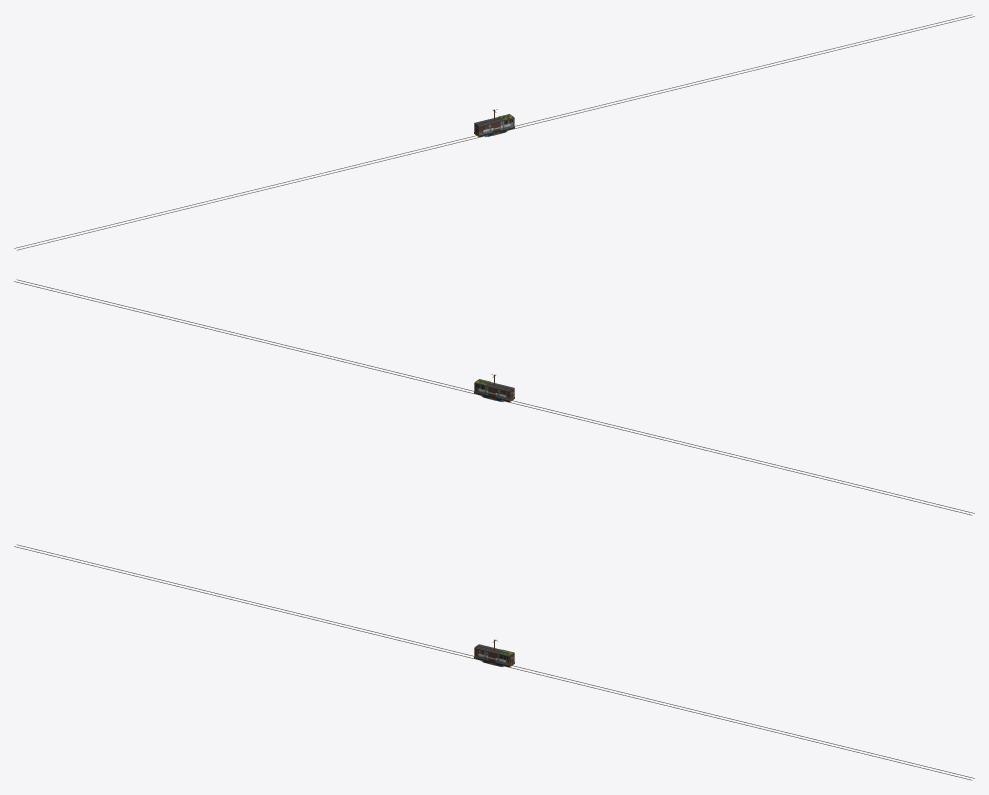
File: switchyard.glb
3 renders of one model, top to bottom at view 1: azimuth 30°, elevation 25°; view 2: azimuth 150°, elevation 25°; view 3: azimuth 330°, elevation 25°, orthographic.
Parts seen in each view (by area): view 1: track-32000; view 2: track-32000; view 3: track-32000.
Boxes of the visible parts, x1,y1,x2,y2 form: track-32000: [14, 14, 974, 250]; track-32000: [14, 279, 974, 515]; track-32000: [14, 544, 974, 780].
Bounding box in the file's own units: 320 × 7.54 × 3.1.
